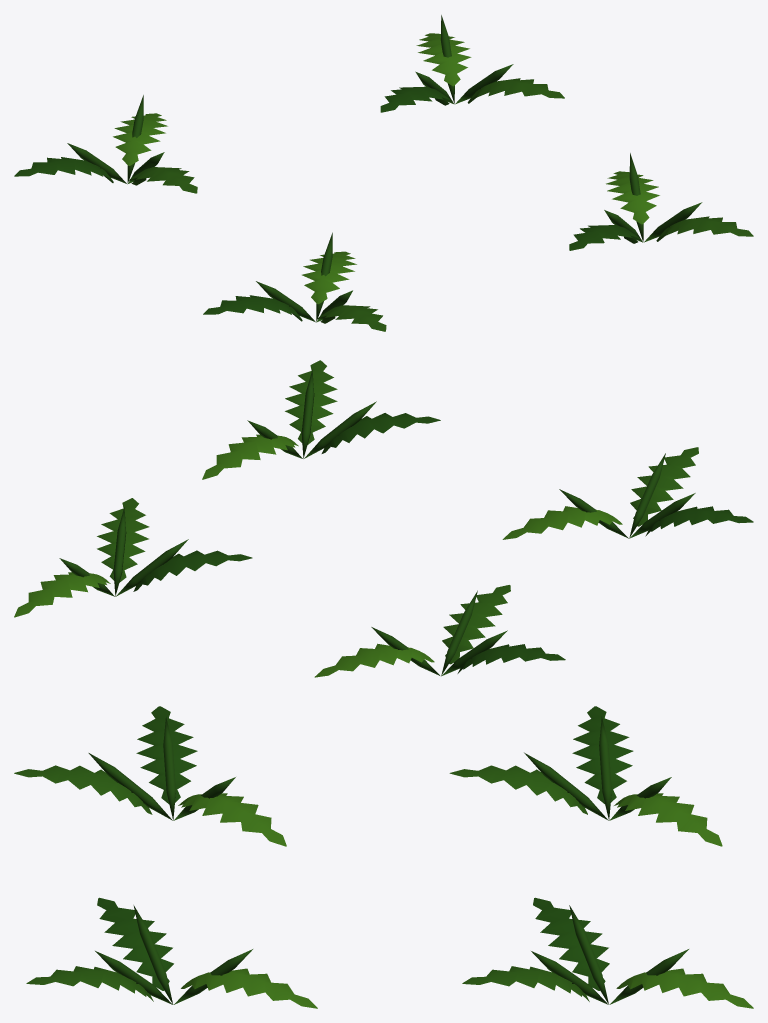
The model's file is crop-cell-vegetable-seedling.obj.
3 views of the same model, one above another, from view 1: azimuth 30°, elevation 25°; view 2: azimuth 150°, elevation 25°; view 3: azimuth 270°, elevation 25° (orthographic). The views are drawn at different scales.
Visible parts, largest first — view 1: crop-cell-vegetable-seedling; view 2: crop-cell-vegetable-seedling; view 3: crop-cell-vegetable-seedling.
Boxes of the visible parts, left/top/right/bottom form: crop-cell-vegetable-seedling: left=14, top=15, right=753, bottom=331; crop-cell-vegetable-seedling: left=14, top=360, right=753, bottom=677; crop-cell-vegetable-seedling: left=14, top=706, right=753, bottom=1008.
Size of the model in its own units: 0.4243 by 0.0487 by 0.4755.
Materials: 1 (1 with a texture image).
